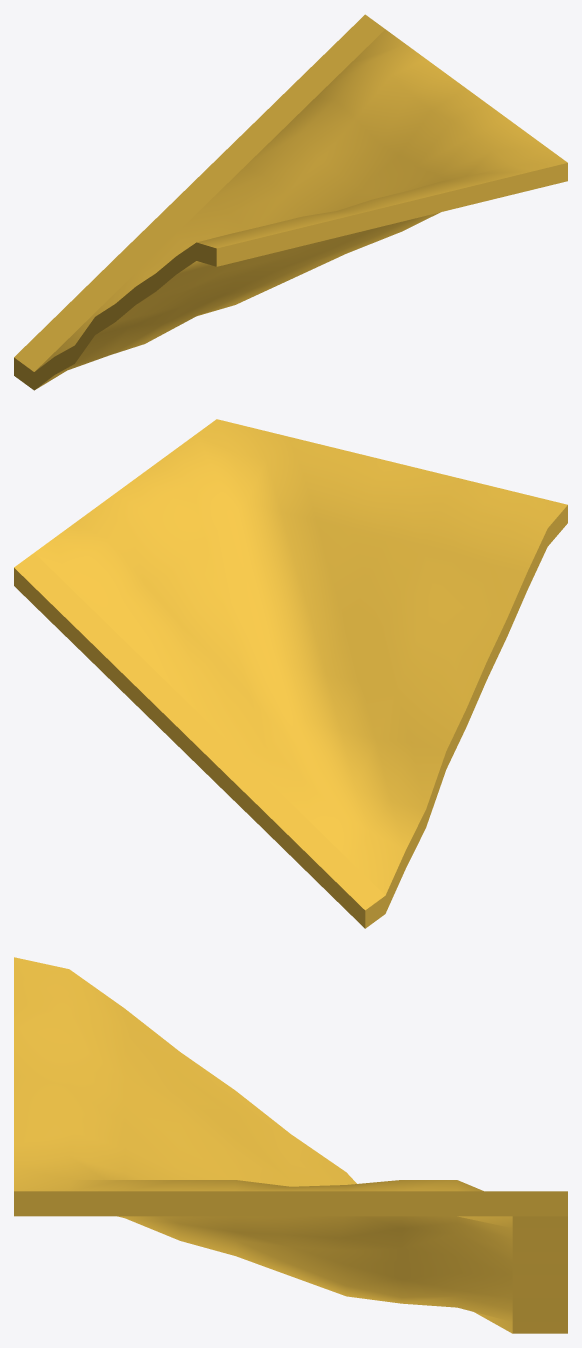
The model's file is Steil - Mitte - Ecke Invertiert x - a.fbx.
3 views of the same model, one above another, from view 1: azimuth 30°, elevation 25°; view 2: azimuth 150°, elevation 25°; view 3: azimuth 270°, elevation 25° (orthographic). The views are drawn at different scales.
Parts seen in each view (by area): view 1: Steil - Mitte - Ecke Invertiert x - a; view 2: Steil - Mitte - Ecke Invertiert x - a; view 3: Steil - Mitte - Ecke Invertiert x - a.
Boxes of the visible parts, x1=… form: Steil - Mitte - Ecke Invertiert x - a: x1=14, y1=14, x2=567, y2=390; Steil - Mitte - Ecke Invertiert x - a: x1=14, y1=419, x2=567, y2=928; Steil - Mitte - Ecke Invertiert x - a: x1=14, y1=957, x2=567, y2=1333.
Bounding box in the file's own units: 394 × 295 × 394.
